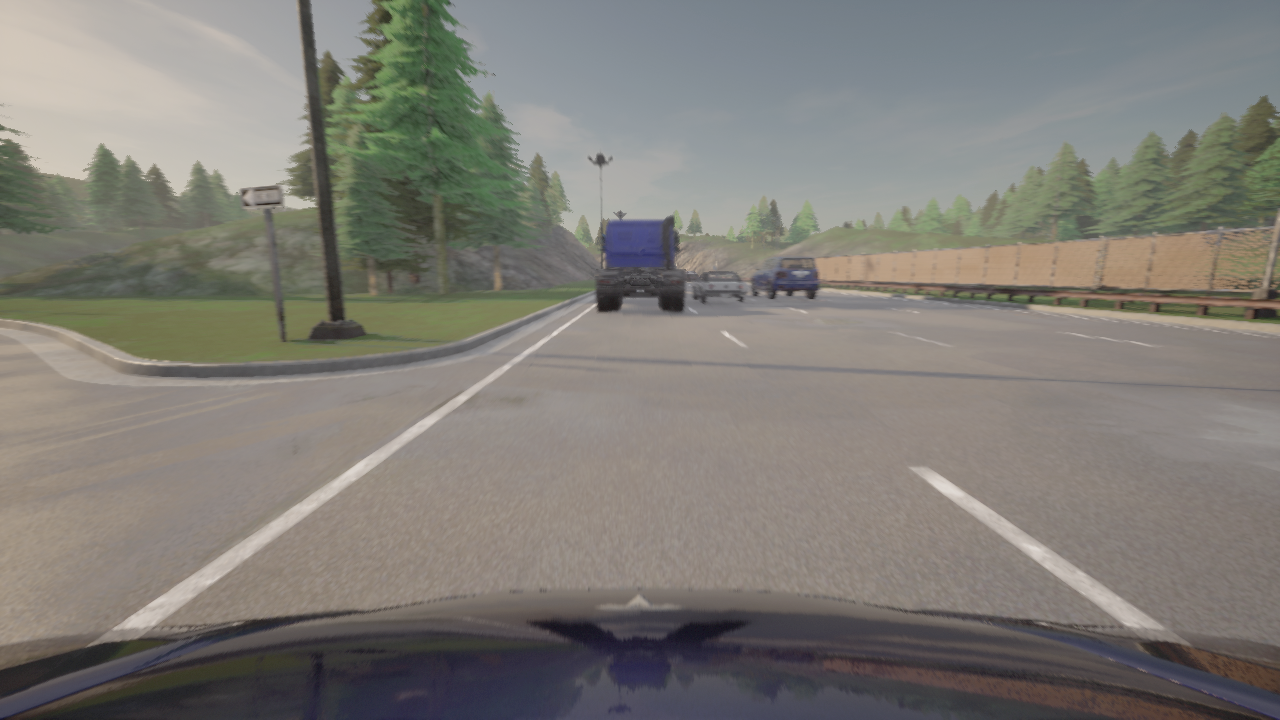cyclist: (0, 588, 1279, 719), (595, 216, 685, 311), (750, 255, 819, 299), (693, 272, 748, 301), (685, 271, 697, 282), (673, 263, 675, 268)
